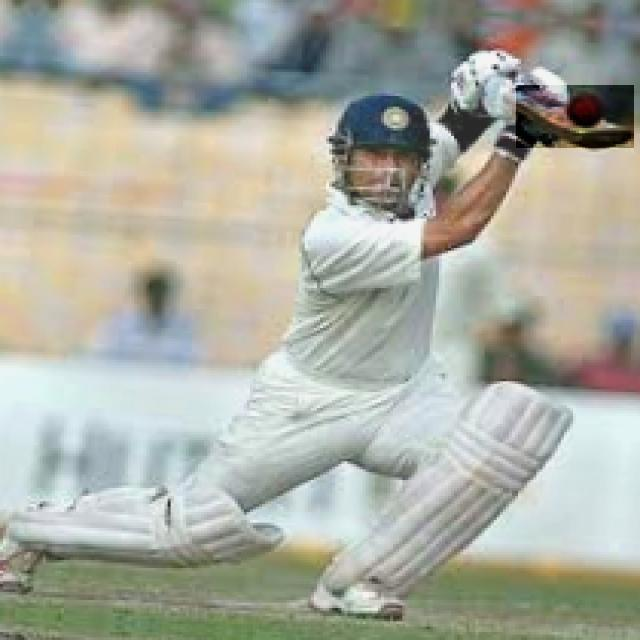bat: (520, 85, 639, 151)
toe: (571, 128, 635, 149)
